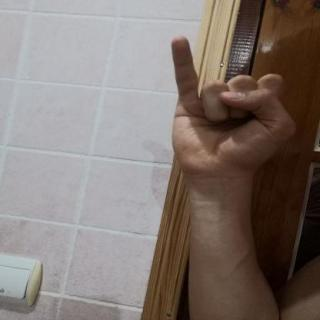MEEM: (150, 31, 310, 190)
